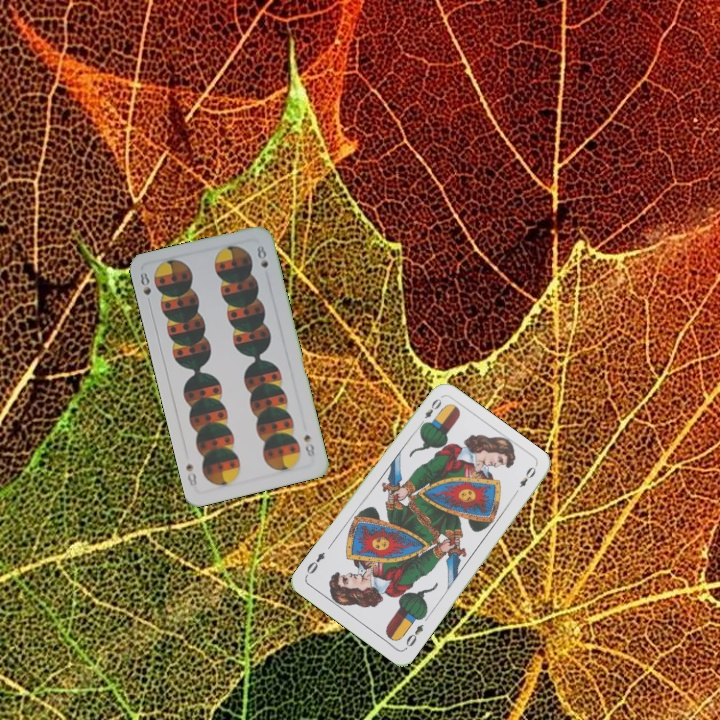EO: (415, 394, 444, 430), (401, 620, 426, 652)
S8: (136, 268, 154, 308), (300, 430, 317, 459)
